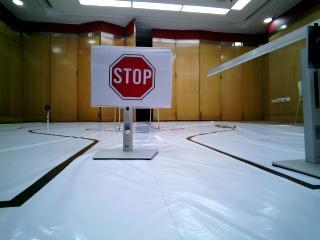stop: (95, 50, 169, 105)
